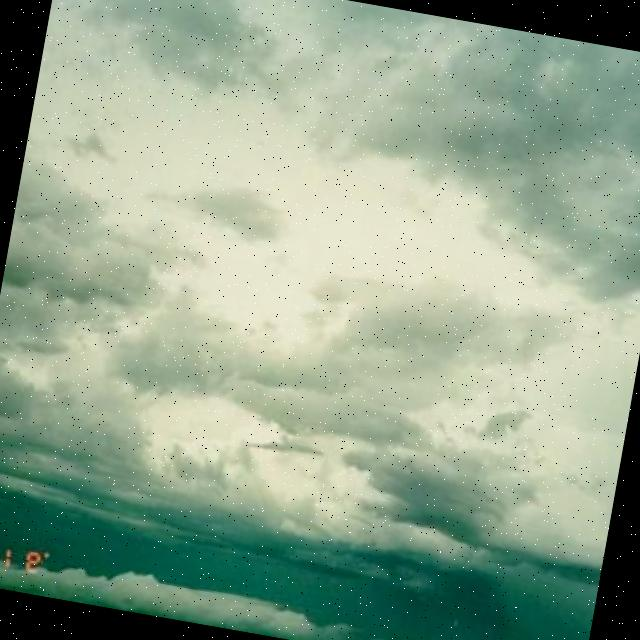St: (1, 1, 640, 613)
